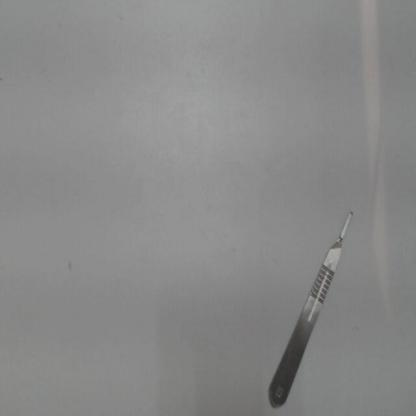No.3 BP Handle: (261, 202, 365, 413)
